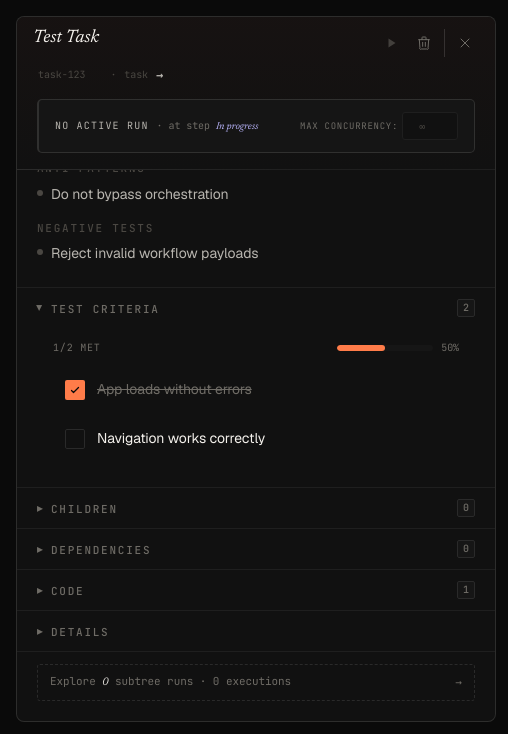
Test case: TaskDetailPanel - Restructured Layout › Collapsible sections › Details section expands to show priority, tags
(page scrolled)
Click the button with aria-label "toggle details section".
click(80, 632)  # box [17,611,495,651]
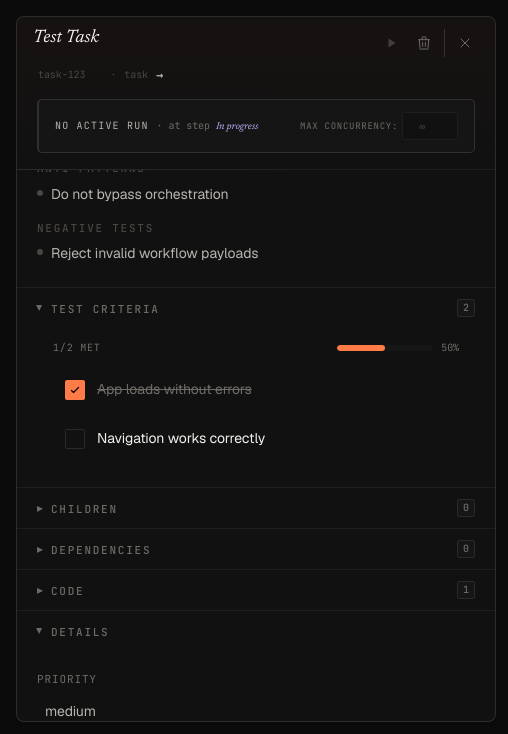
Now the text "medium" is shown, box [45,702,96,720]
